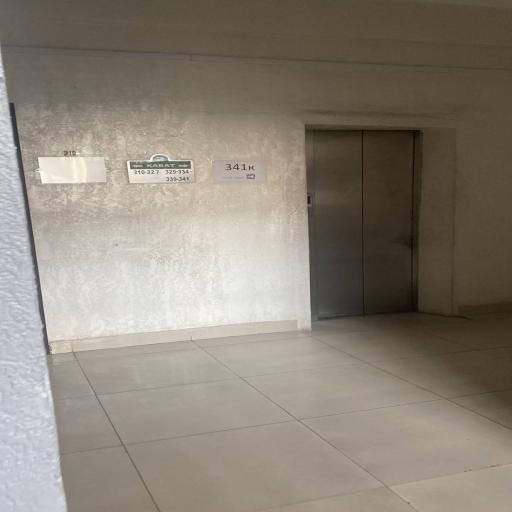closet: (290, 101, 460, 333)
